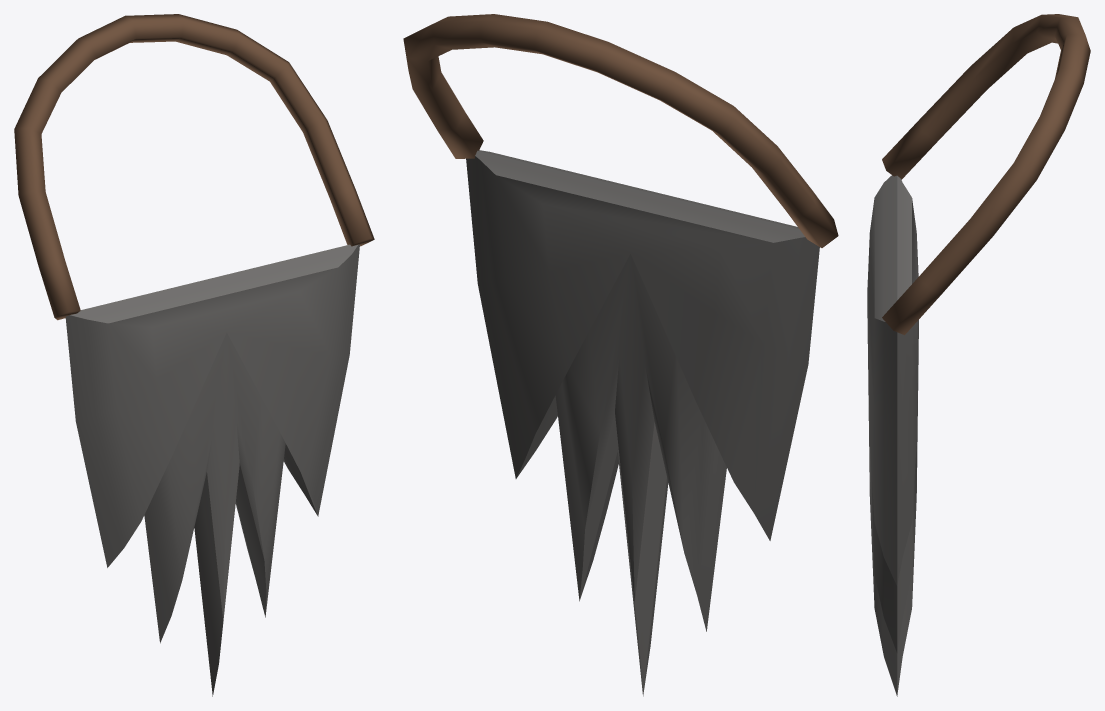
File: barbazu-beard.glb
3 views of the same model, side by side, from view 1: azimuth 30°, elevation 25°; view 2: azimuth 150°, elevation 25°; view 3: azimuth 270°, elevation 25° (orthographic). The views are drawn at different scales.
Visible parts, largest first — view 1: barbazu-beard; view 2: barbazu-beard; view 3: barbazu-beard.
Part boxes in pixels (bbox=[...]): barbazu-beard: bbox=[14, 14, 374, 696]; barbazu-beard: bbox=[403, 14, 838, 696]; barbazu-beard: bbox=[867, 14, 1090, 696].
Size of the model in its own units: 0.304 by 0.5599 by 0.1713.
